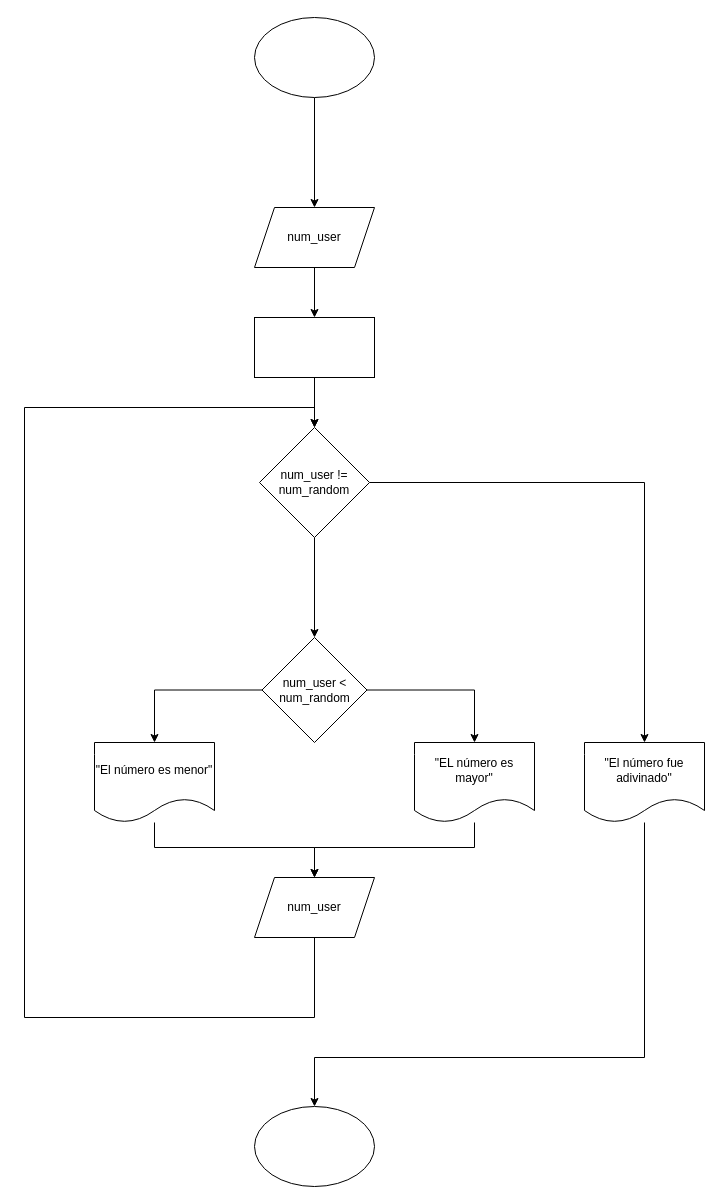
Some shapes in this 722 by 1204 pixel diagram are drawn without their labels. Each missing label, with the box of its shape:
FIN: (254, 1106, 374, 1186)
INICIO: (254, 16, 374, 98)
num_random: (254, 316, 374, 378)
